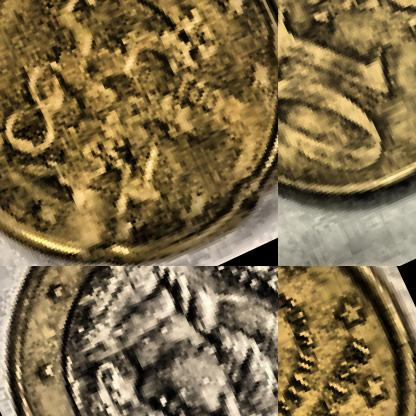coin: (0, 0, 277, 265), (0, 266, 277, 415), (278, 0, 415, 250), (278, 266, 415, 415)
